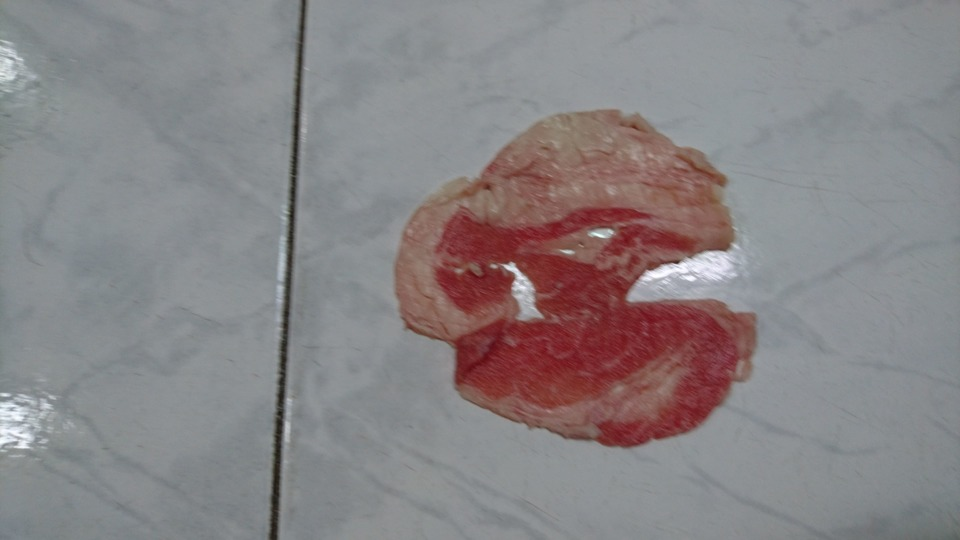restructured meat: (388, 112, 760, 446)
